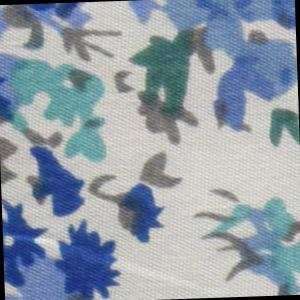Wrinkle: (3, 217, 214, 300)
